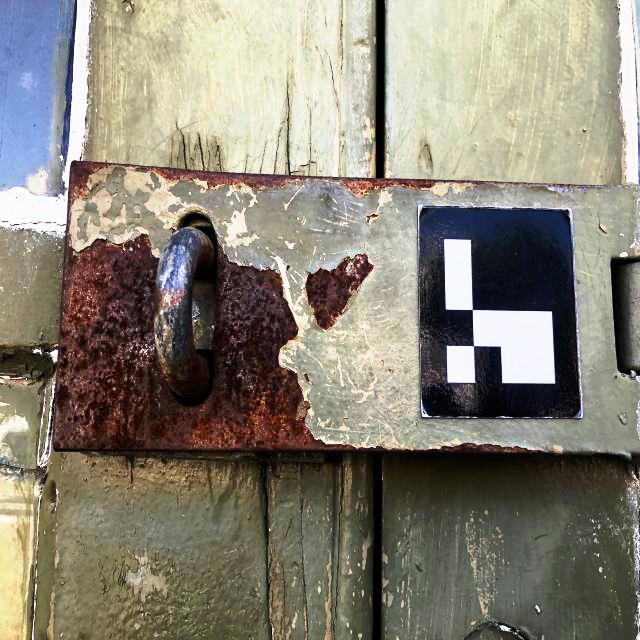Corrosion: (53, 234, 558, 454), (65, 161, 569, 246), (306, 254, 373, 329), (161, 325, 212, 402), (153, 286, 183, 315), (194, 244, 215, 278), (367, 215, 380, 222), (304, 373, 310, 382), (286, 265, 289, 270)
